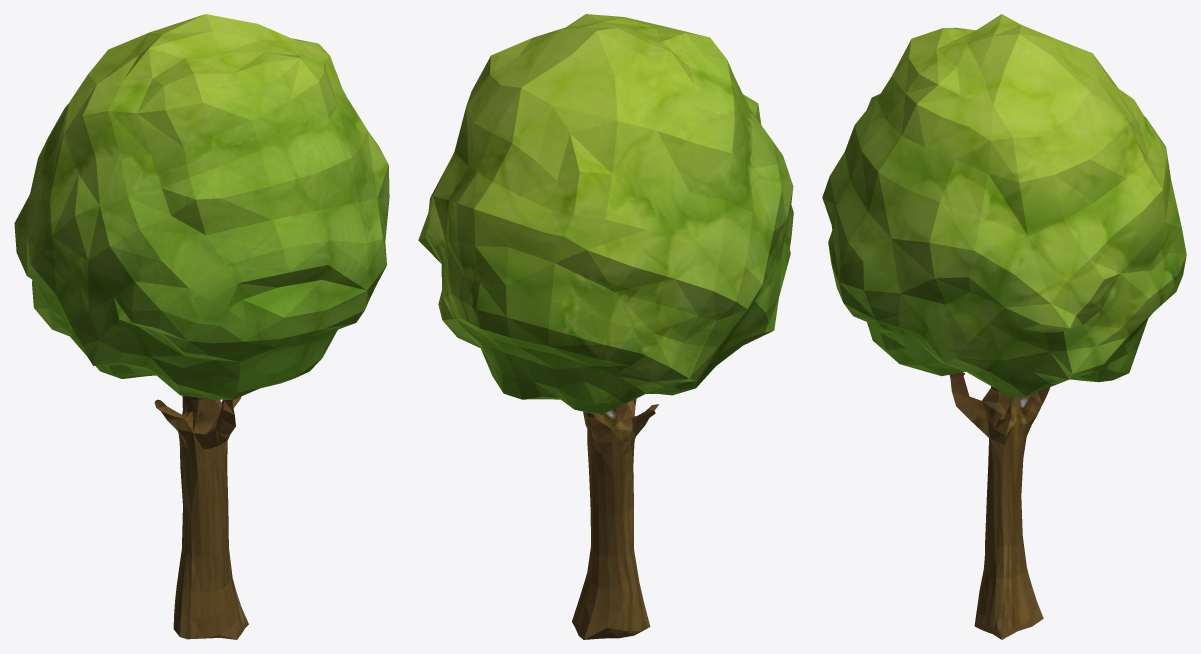
The model's file is Tree1.glb.
3 renders of one model, left to right at view 1: azimuth 30°, elevation 25°; view 2: azimuth 150°, elevation 25°; view 3: azimuth 270°, elevation 25°, orthographic. The views are drawn at different scales.
Visible parts, largest first — view 1: tripo_node_56f3d3fc-41d4-479d-a2f2-a57e836636cc; view 2: tripo_node_56f3d3fc-41d4-479d-a2f2-a57e836636cc; view 3: tripo_node_56f3d3fc-41d4-479d-a2f2-a57e836636cc.
Boxes of the visible parts, box(x1,y1,x2,y2) form: tripo_node_56f3d3fc-41d4-479d-a2f2-a57e836636cc: box(14, 14, 389, 639); tripo_node_56f3d3fc-41d4-479d-a2f2-a57e836636cc: box(418, 14, 793, 639); tripo_node_56f3d3fc-41d4-479d-a2f2-a57e836636cc: box(822, 14, 1186, 639).
Size of the model in its own units: 0.144 by 0.2569 by 0.1439.
1 material, 1 textured.
